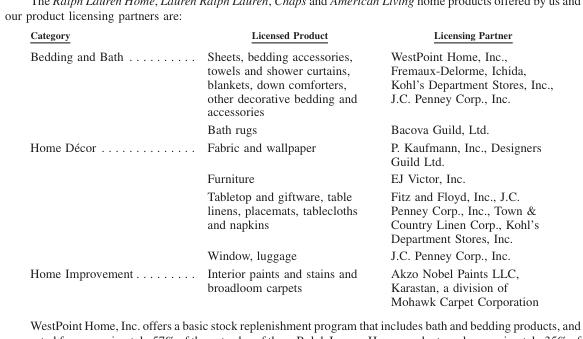table: (29, 28, 552, 307)
table column: (172, 28, 373, 307), (373, 28, 552, 307), (29, 28, 172, 307)
table column header: (29, 28, 552, 44)
table row: (29, 44, 552, 119), (29, 186, 552, 246), (29, 263, 552, 307), (29, 137, 552, 169), (29, 119, 552, 137), (29, 169, 552, 186), (29, 246, 552, 263), (29, 28, 552, 44)
table spanning cell: (29, 137, 172, 263), (29, 44, 172, 137)
